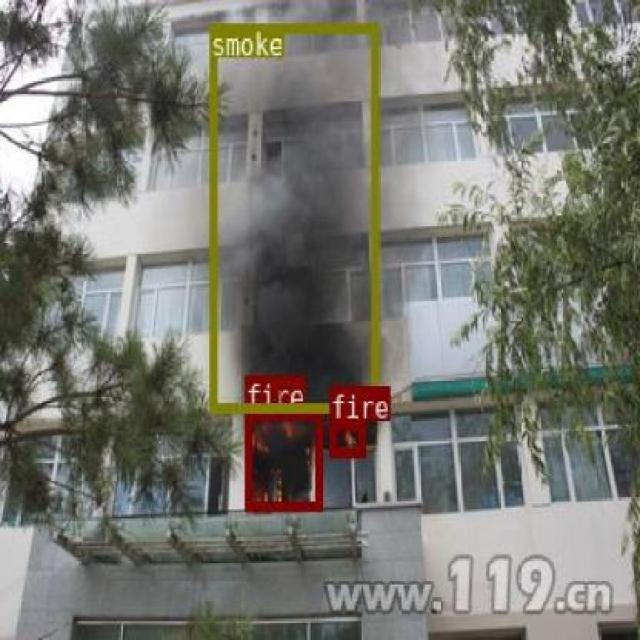Fire: (243, 408, 322, 508), (330, 418, 364, 456)
Smoke: (208, 23, 376, 411)
